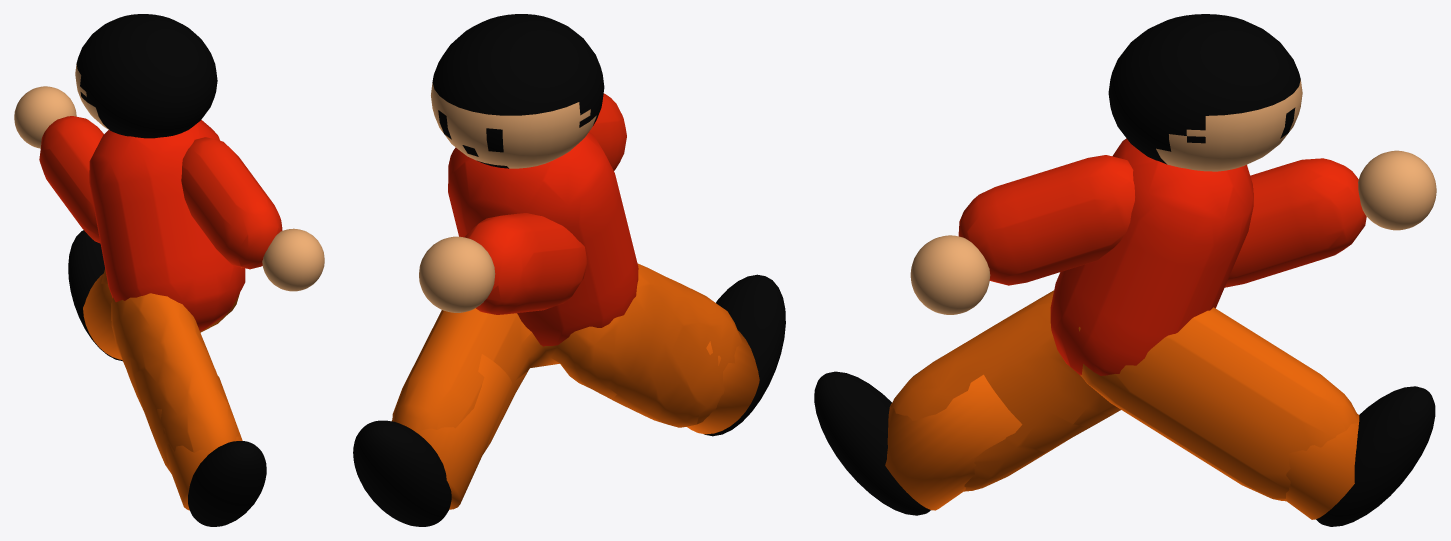
The model's file is Tobidasiboy.fbx.
The picture shows the model from 3 angles, left to right: view 1: azimuth 30°, elevation 25°; view 2: azimuth 150°, elevation 25°; view 3: azimuth 270°, elevation 25°; orthographic projection. The views are drawn at different scales.
Parts seen in each view (by area): view 1: メタボール.002; view 2: メタボール.002; view 3: メタボール.002.
Boxes of the visible parts, <box> form: メタボール.002: <box>14,14,324,526</box>; メタボール.002: <box>353,14,785,526</box>; メタボール.002: <box>814,14,1436,526</box>.
Bounding box in the file's own units: 285 × 717 × 781.
